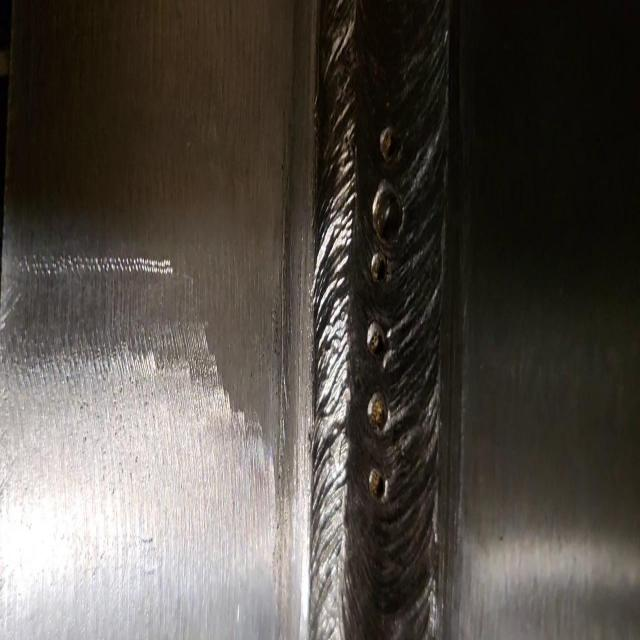Welding Line: (312, 7, 458, 640)
Workpiece: (9, 0, 640, 640)
porosity: (365, 127, 401, 500)
